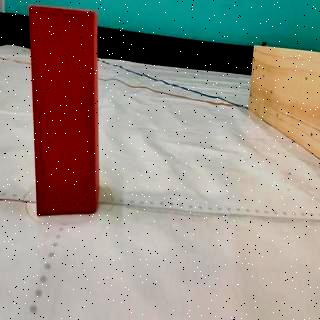redbox: (28, 5, 99, 216)
